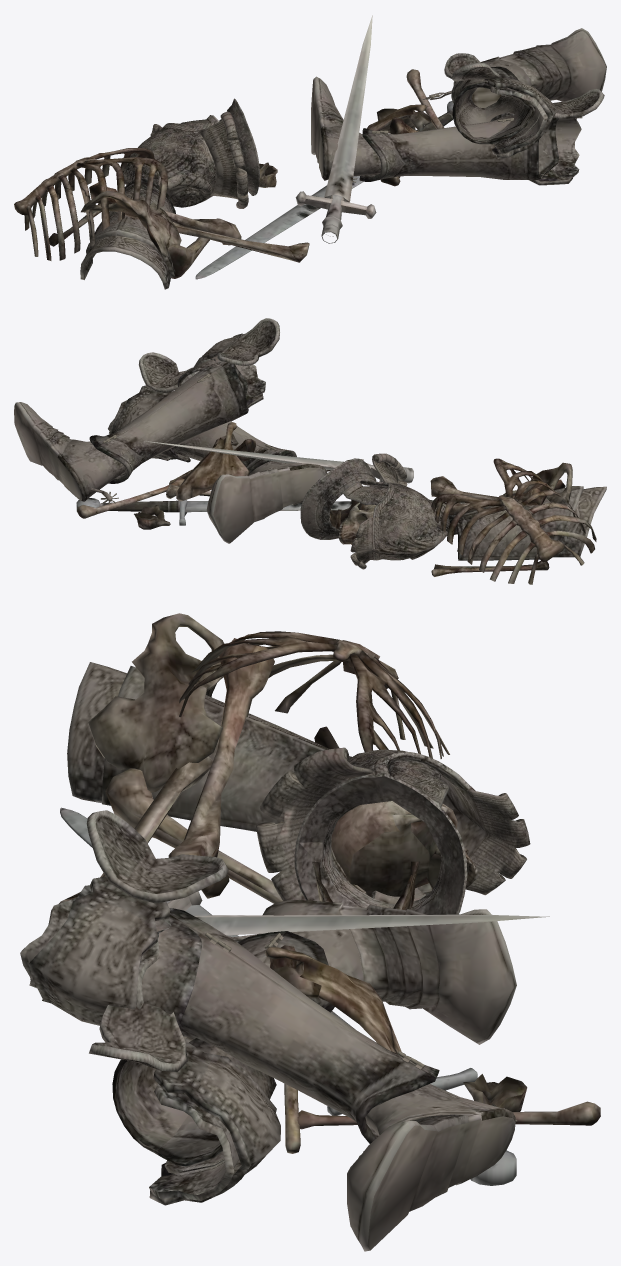
The model's file is AEG023_858out-transformed.glb.
The picture shows the model from 3 angles, top to bottom: view 1: azimuth 30°, elevation 25°; view 2: azimuth 150°, elevation 25°; view 3: azimuth 270°, elevation 25°; orthographic projection. The views are drawn at different scales.
Parts seen in each view (by area): view 1: default; view 2: default; view 3: default.
Boxes of the visible parts, x1,y1,x2,y2 form: default: [14, 15, 606, 289]; default: [14, 318, 606, 584]; default: [20, 613, 600, 1251].
Bounding box in the file's own units: 1.96 × 0.5006 × 0.9023.
4 materials, 4 textured.
